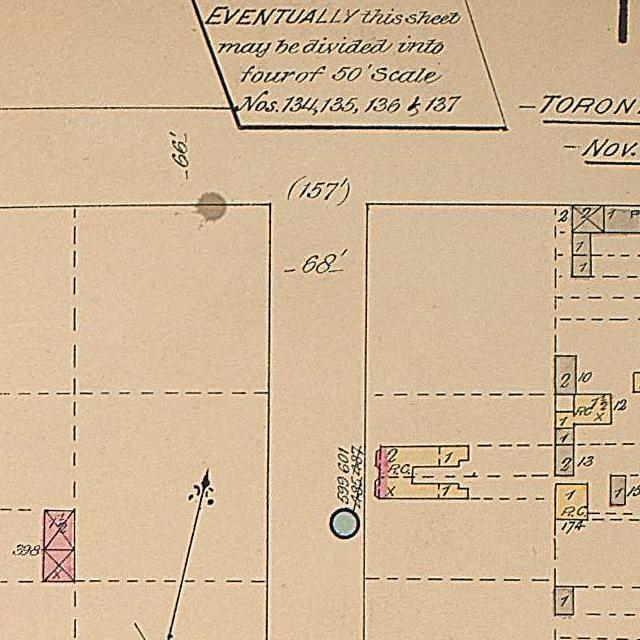building-footprints: (375, 446, 468, 499), (555, 394, 611, 428), (45, 510, 74, 550), (556, 484, 588, 520), (603, 205, 640, 234), (44, 550, 74, 582), (573, 205, 603, 233), (555, 356, 576, 395), (555, 444, 574, 476), (555, 586, 573, 615), (611, 476, 626, 506), (573, 254, 591, 277), (573, 233, 591, 255), (555, 428, 574, 444)
